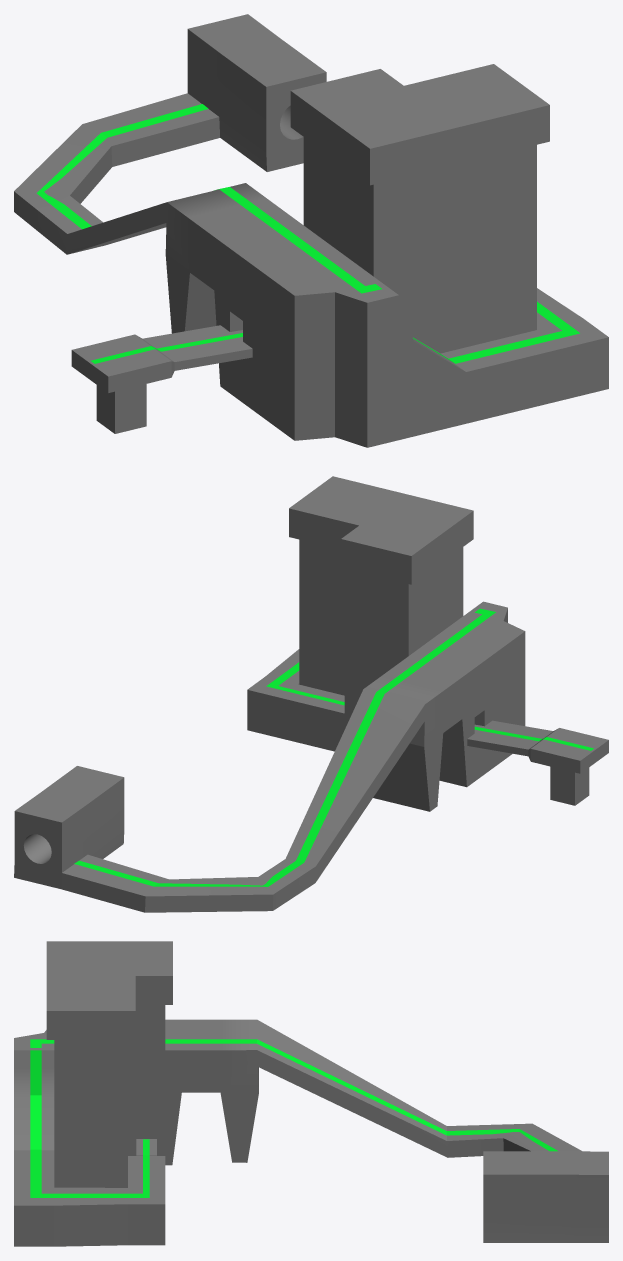
Rendered from Level_Blockout.obj.
3 views of the same model, one above another, from view 1: azimuth 30°, elevation 25°; view 2: azimuth 150°, elevation 25°; view 3: azimuth 270°, elevation 25° (orthographic). The views are drawn at different scales.
Parts seen in each view (by area): view 1: pCube4, pPlane1; view 2: pCube4, pPlane1; view 3: pCube4, pPlane1.
Boxes of the visible parts, x1,y1,x2,y2 form: pCube4: (14,14,608,447); pPlane1: (36,104,579,363); pCube4: (14,476,608,912); pPlane1: (74,608,593,886); pCube4: (14,941,608,1246); pPlane1: (30,1039,558,1197).
Bounding box in the file's own units: 59.53 × 35.19 × 85.82.
